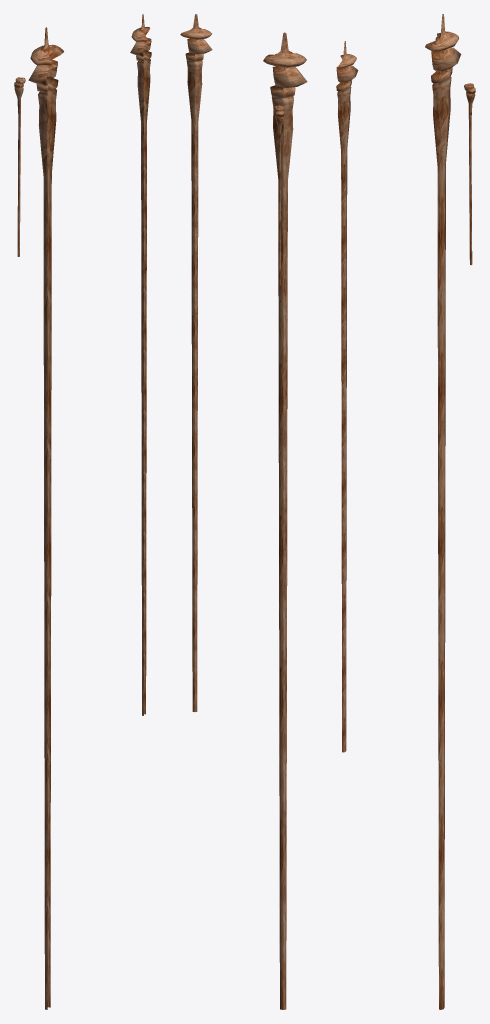
File: Bullet Station 9.fbx
The picture shows the model from 3 angles, left to right: view 1: azimuth 90°, elevation 25°; view 2: azimuth 210°, elevation 25°; view 3: azimuth 270°, elevation 25°; orthographic projection.
Parts seen in each view (by area): view 1: STG08_ON_11; view 2: STG08_ON_11; view 3: STG08_ON_11.
Boxes of the visible parts, x1=… form: STG08_ON_11: x1=14, y1=14, x2=151, y2=1009; STG08_ON_11: x1=180, y1=14, x2=307, y2=1009; STG08_ON_11: x1=336, y1=14, x2=475, y2=1009.
Size of the model in its own units: 462900 by 6118030 by 777943.
